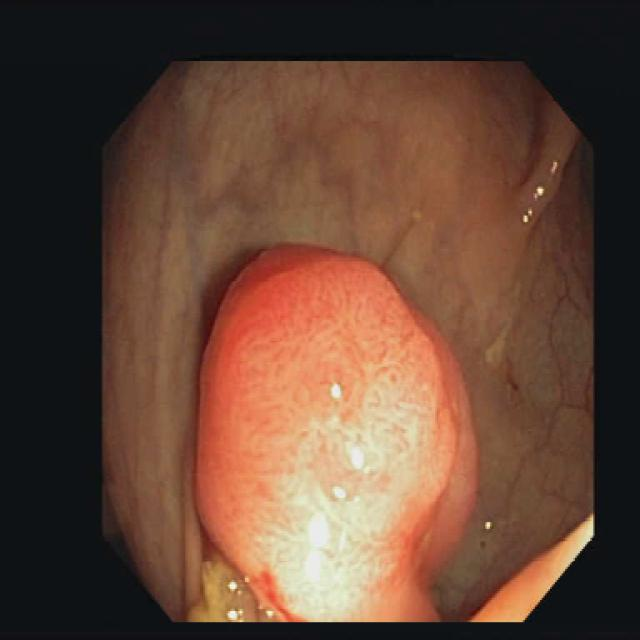tumor: (195, 249, 473, 620)
